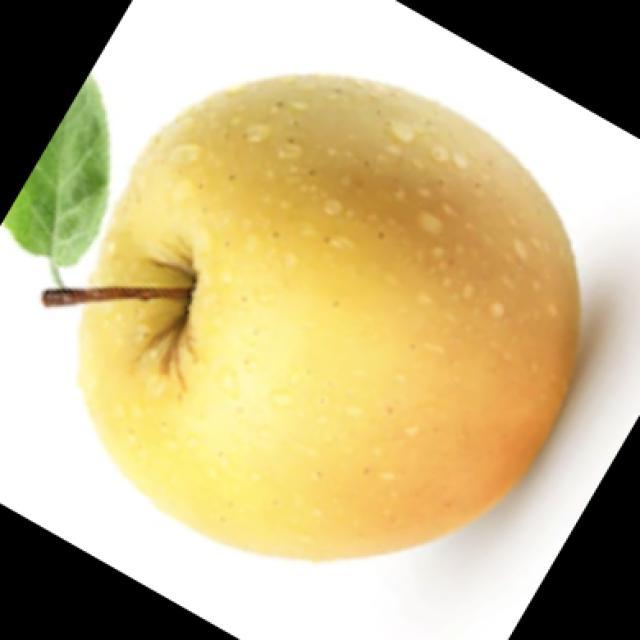Apple: (56, 71, 582, 562)
